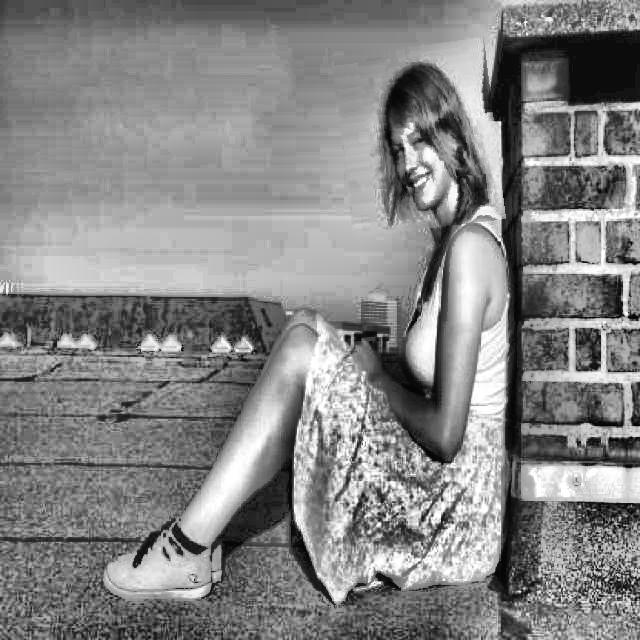happy: (337, 42, 501, 233)
